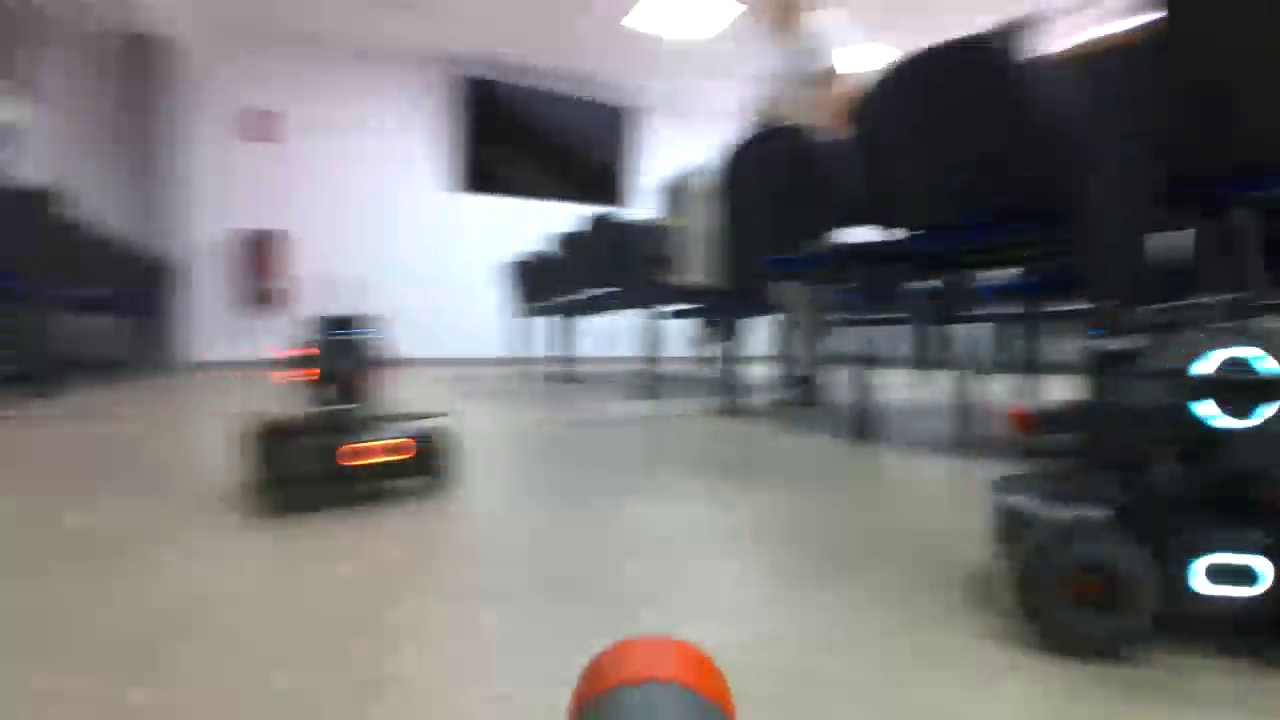robot: (990, 330, 1280, 660), (268, 310, 446, 510)
